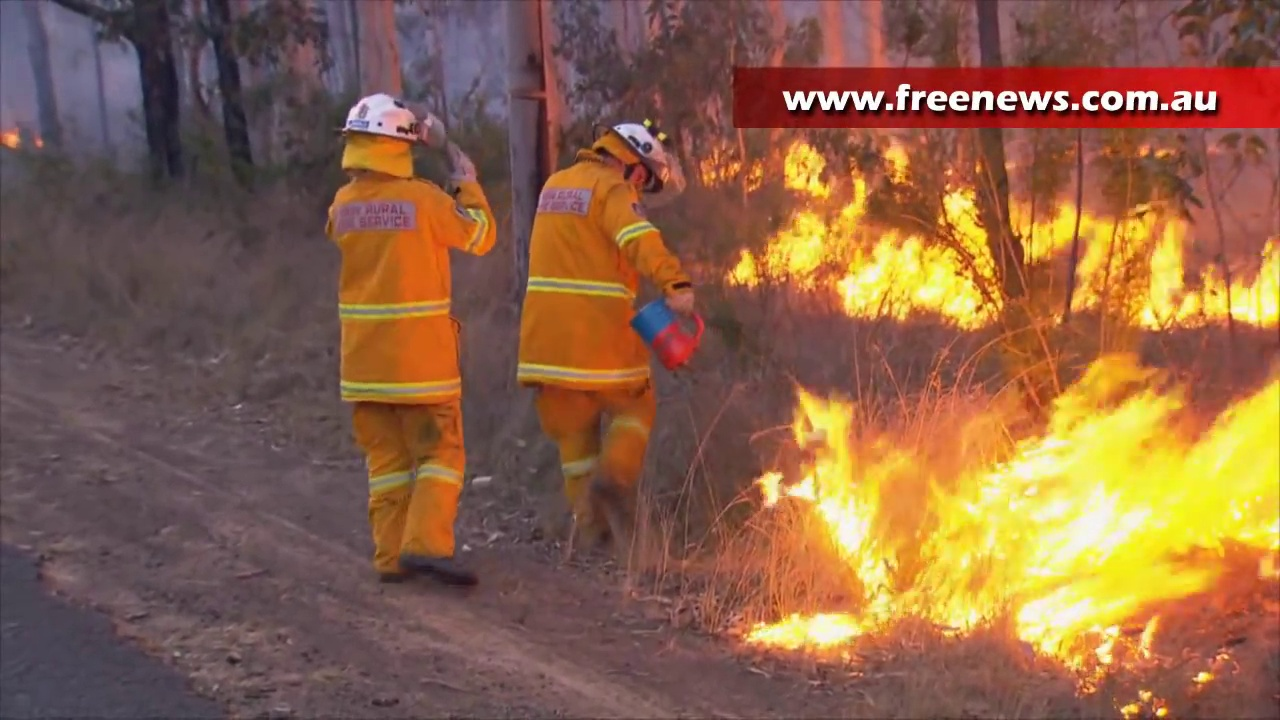fire: (760, 362, 1279, 715), (736, 194, 1280, 332), (784, 140, 827, 191), (889, 135, 905, 179)
